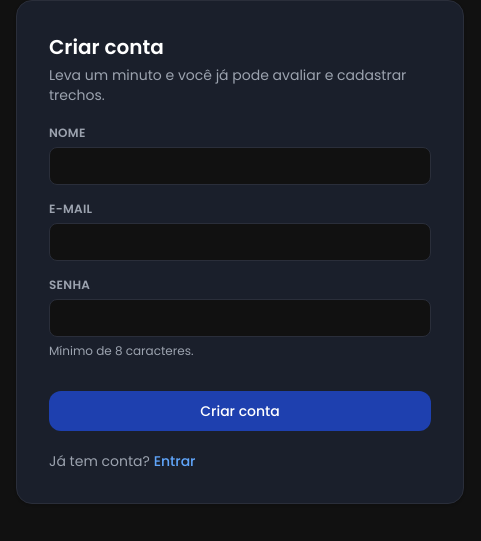
Cadastro › mostra o conflito de e-mail já cadastrado vindo do backend
Type "Ana" into the field labelled "Nome".
click(240, 166); type("Ana")  # box top-left (49, 147), bottom-right (431, 185)
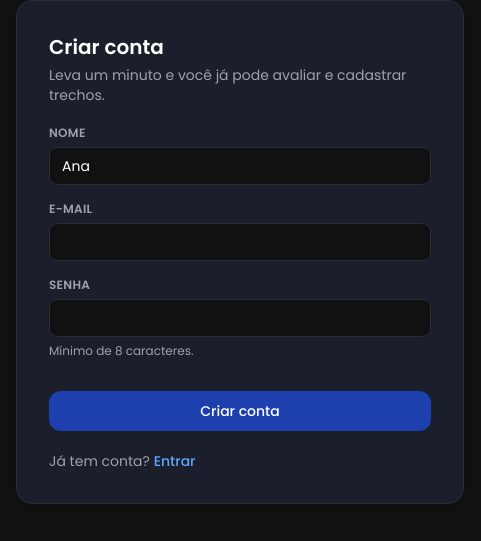
Type "ana@exemplo.com" into the field labelled "E-mail".
click(240, 242); type("ana@exemplo.com")  # box top-left (49, 223), bottom-right (431, 261)
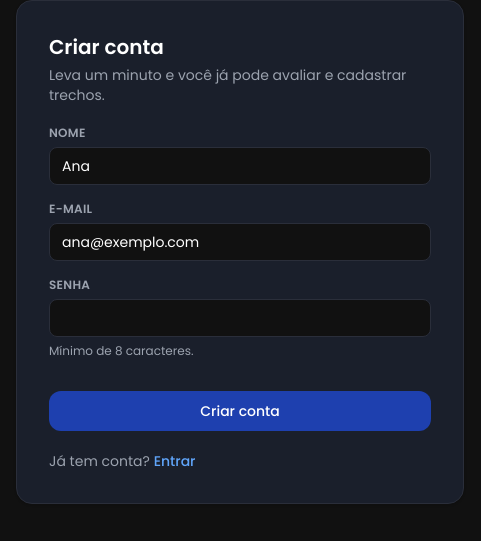
Type "senha-segura" into the password field labelled "Senha".
click(240, 318); type("senha-segura")  # box top-left (49, 299), bottom-right (431, 337)
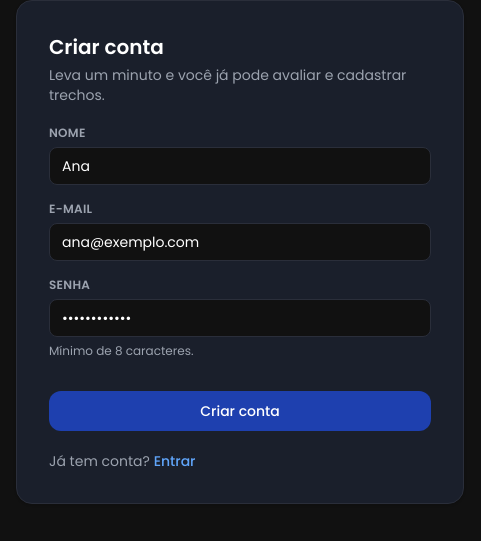
Click the button "Criar conta".
click(240, 411)  # box top-left (49, 391), bottom-right (431, 431)
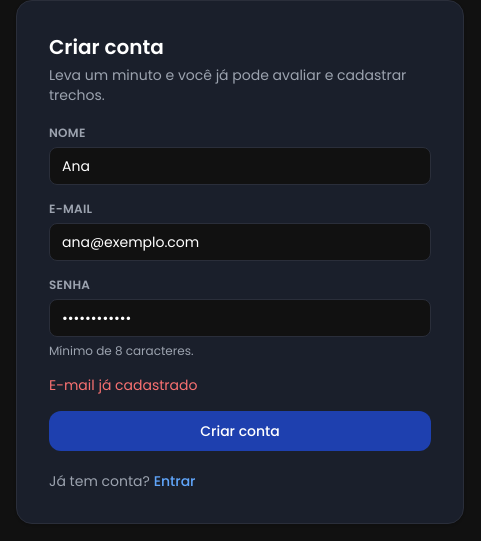
Now the message reads "E-mail já cadastrado", box top-left (49, 375), bottom-right (198, 395)
